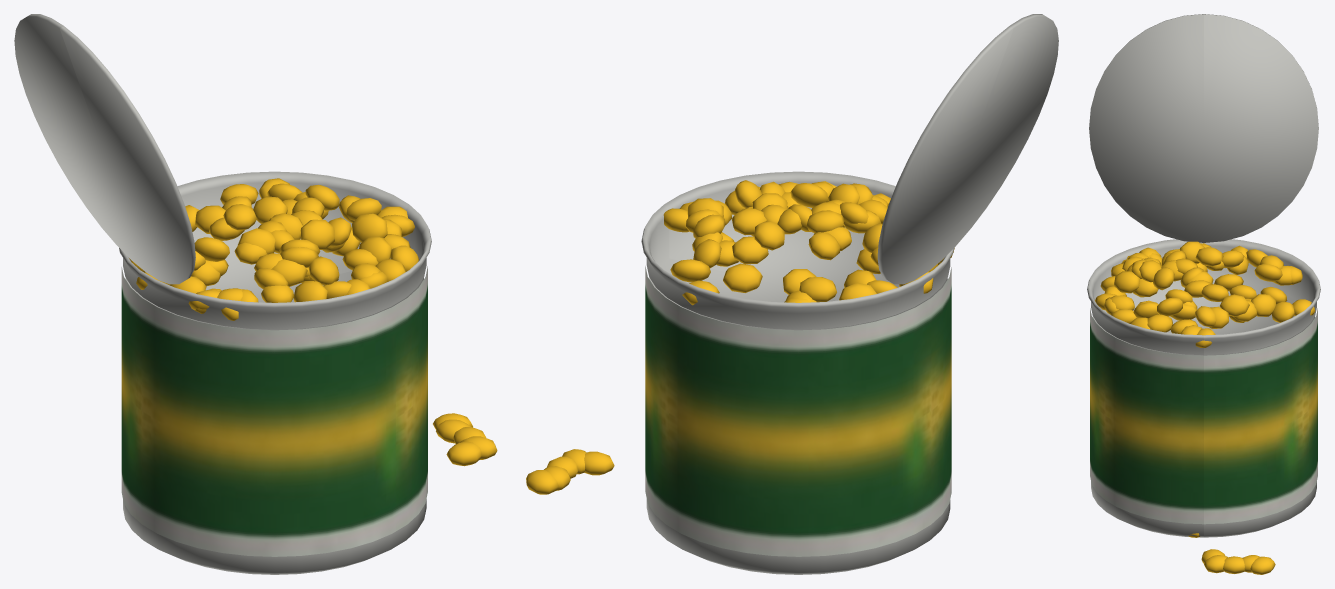
The model's file is sweetcorn.gltf.
The picture shows the model from 3 angles, left to right: view 1: azimuth 30°, elevation 25°; view 2: azimuth 150°, elevation 25°; view 3: azimuth 270°, elevation 25°; orthographic projection. The views are drawn at different scales.
Parts seen in each view (by area): view 1: sweetcorn, corn_lid; view 2: sweetcorn, corn_lid; view 3: sweetcorn, corn_lid.
Part boxes in pixels (box(x1,y1,x2,y2)): sweetcorn: box(119, 171, 497, 574); corn_lid: box(14, 14, 195, 284); sweetcorn: box(526, 171, 954, 574); corn_lid: box(877, 14, 1058, 284); sweetcorn: box(1087, 239, 1320, 574); corn_lid: box(1089, 14, 1318, 242).
Bounding box in the file's own units: 0.116 × 0.1339 × 0.0704.
3 materials, 1 textured.
